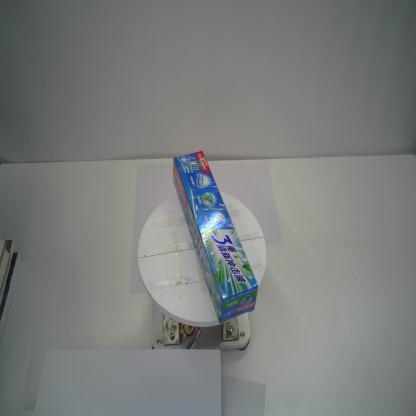Personal Hygiene: (171, 148, 259, 326)
